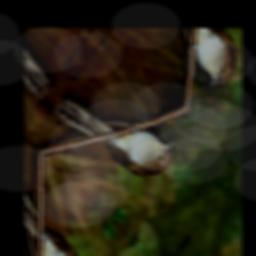Cuckoo: (51, 60, 182, 201)
